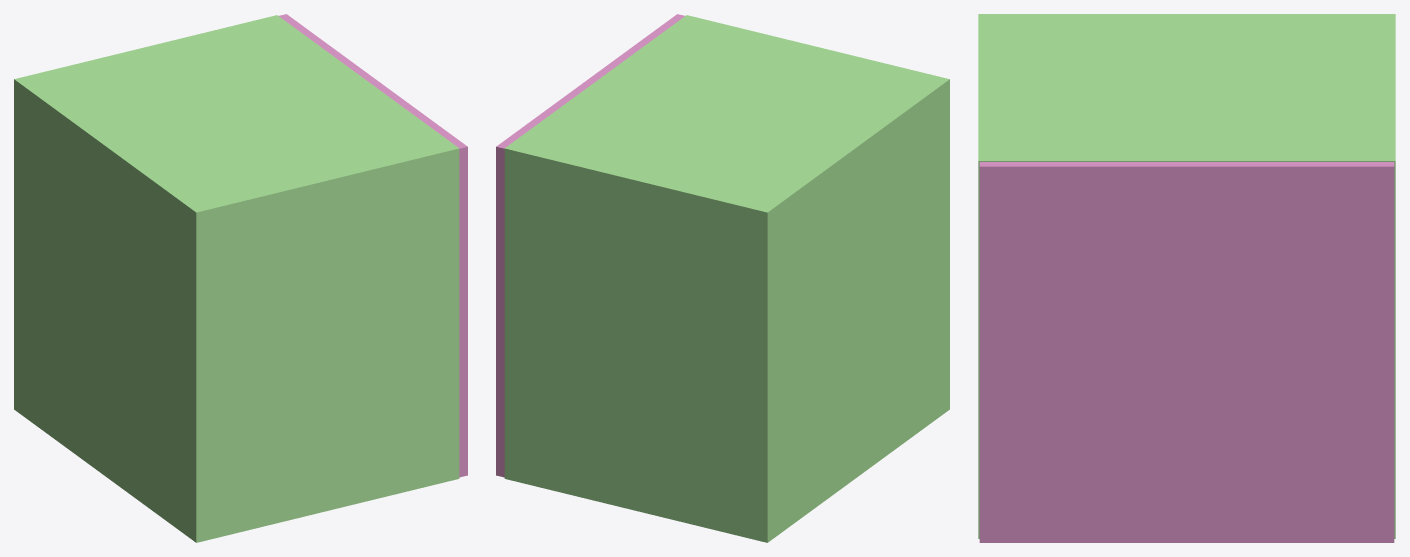
Rendered from coffre.glb.
3 views of the same model, side by side, from view 1: azimuth 30°, elevation 25°; view 2: azimuth 150°, elevation 25°; view 3: azimuth 270°, elevation 25° (orthographic). The views are drawn at different scales.
Parts seen in each view (by area): view 1: Coffre, Porte; view 2: Coffre, Porte; view 3: Porte, Coffre.
Boxes of the visible parts, x1=… form: Coffre: x1=14, y1=15, x2=459, y2=542; Porte: x1=279, y1=14, x2=467, y2=477; Coffre: x1=504, y1=15, x2=949, y2=542; Porte: x1=496, y1=14, x2=684, y2=477; Porte: x1=979, y1=162, x2=1394, y2=542; Coffre: x1=978, y1=14, x2=1395, y2=538.
Size of what is drawn, in the model's own units: 2.07 by 2.4 by 2.4.
